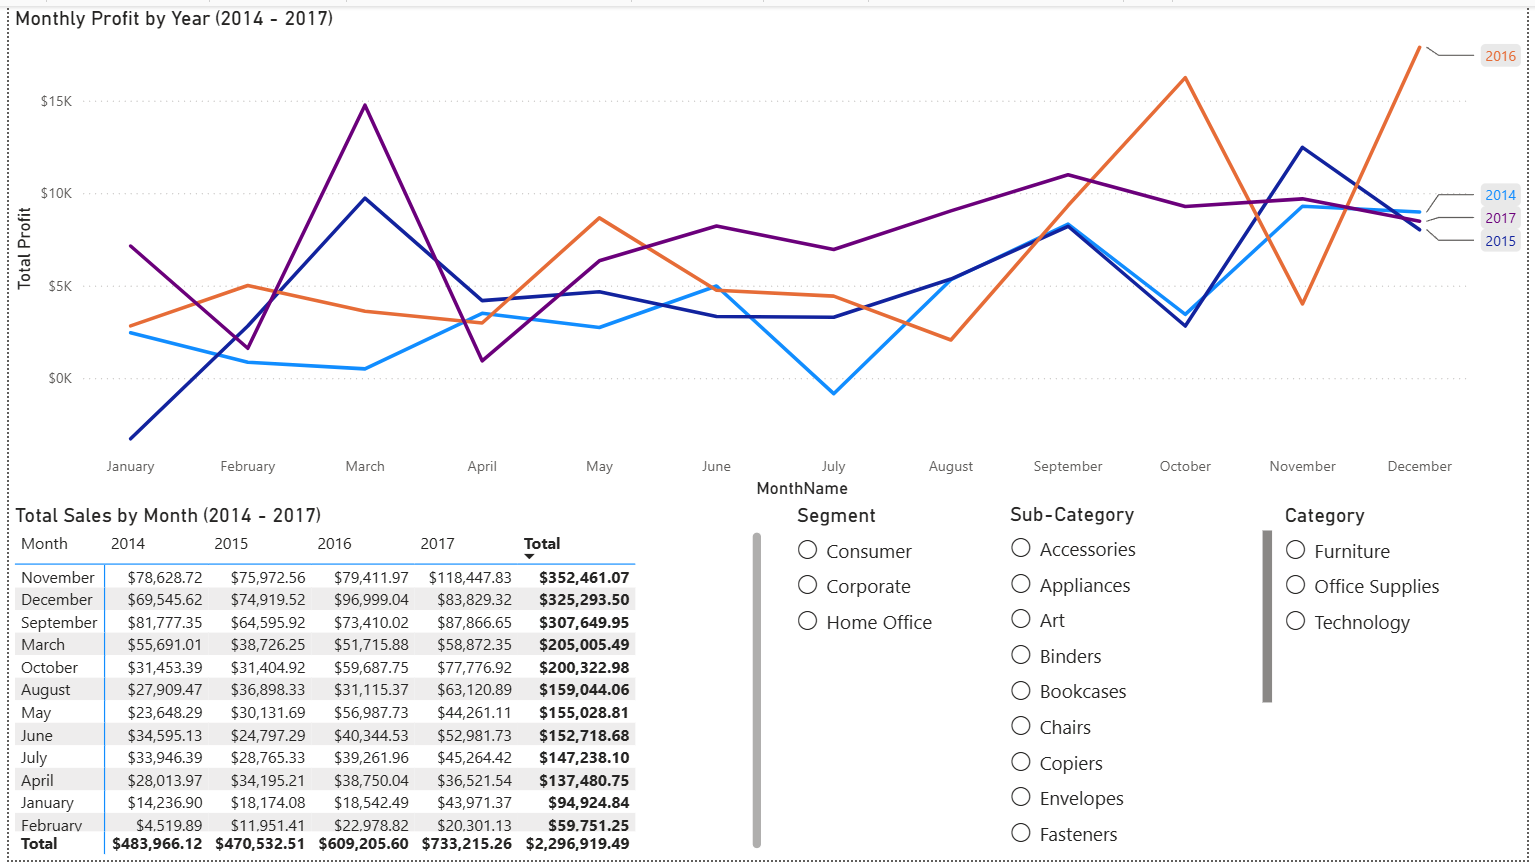

This screenshot's page, from the dashboard's own definition file:
{"tool":"powerbi","page":{"name":"Monthly Breakdown by Year","canvas":[1280,720],"ordinal":4},"visuals":[{"type":"lineChart","title":"Monthly Profit by Year (2014 - 2017)","fields":{"Y":["Sum(RawData.Profit)"],"Series":["RawData.Year"],"Category":["RawData.MonthName"]},"box":[0,0,1279.7,419.1],"z":0},{"type":"pivotTable","title":"Total Sales by Month (2014 - 2017)","fields":{"Rows":["RawData.MonthName"],"Values":["Sum(RawData.Sales)"],"Columns":["RawData.Year"]},"box":[0,419.1,640.3,300.9],"z":1000},{"type":"listSlicer","fields":{"Values":["RawData.Category"]},"box":[1071,419.1,208.7,300.9],"z":2000},{"type":"listSlicer","fields":{"Values":["RawData.Sub-Category"]},"box":[839.1,418.2,231.9,301.8],"z":3000},{"type":"listSlicer","fields":{"Values":["RawData.Segment"]},"box":[659.1,419.1,180,300.9],"z":4000}]}

Visuals, with their boxes in screenshot pixels (x1, y1, x2, y2), scaled from the page's 1280x720 canvas onto the 1535x868 screenshot:
"Monthly Profit by Year (2014 - 2017)" lineChart: bbox(0, 0, 1534, 505)
"Total Sales by Month (2014 - 2017)" pivotTable: bbox(0, 505, 768, 867)
listSlicer - RawData.Category: bbox(1284, 505, 1534, 867)
listSlicer - RawData.Sub-Category: bbox(1006, 504, 1284, 867)
listSlicer - RawData.Segment: bbox(790, 505, 1006, 867)
